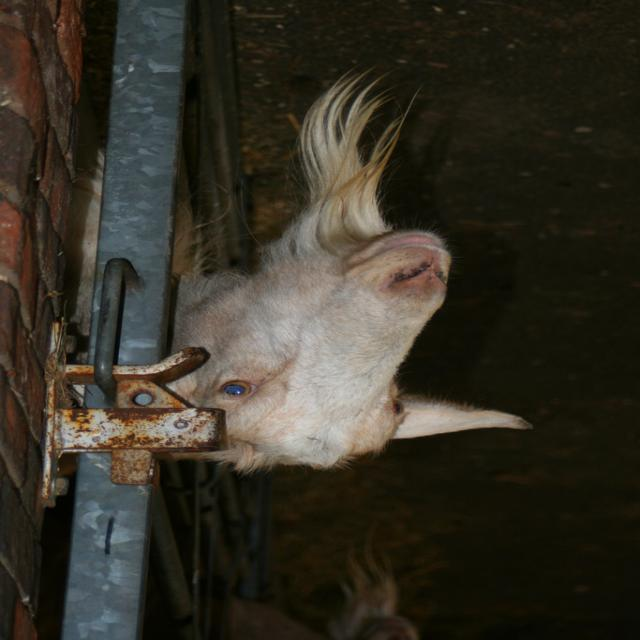Goat: (60, 63, 533, 478)
